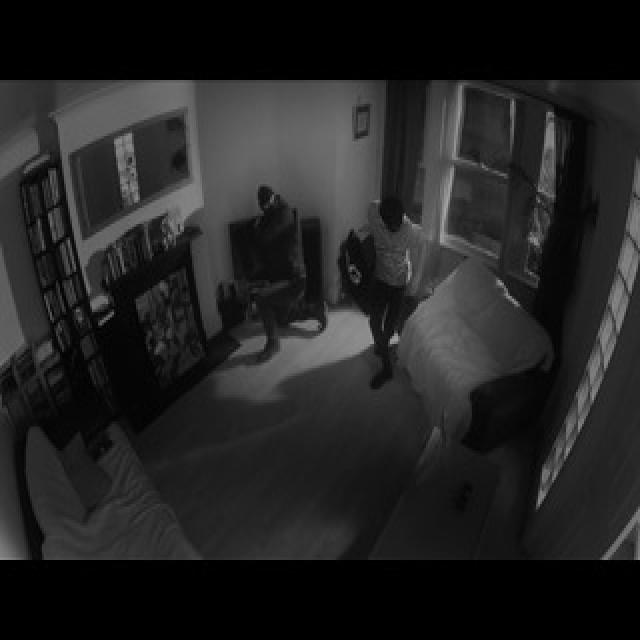thief: (346, 184, 428, 378), (250, 167, 324, 360)
